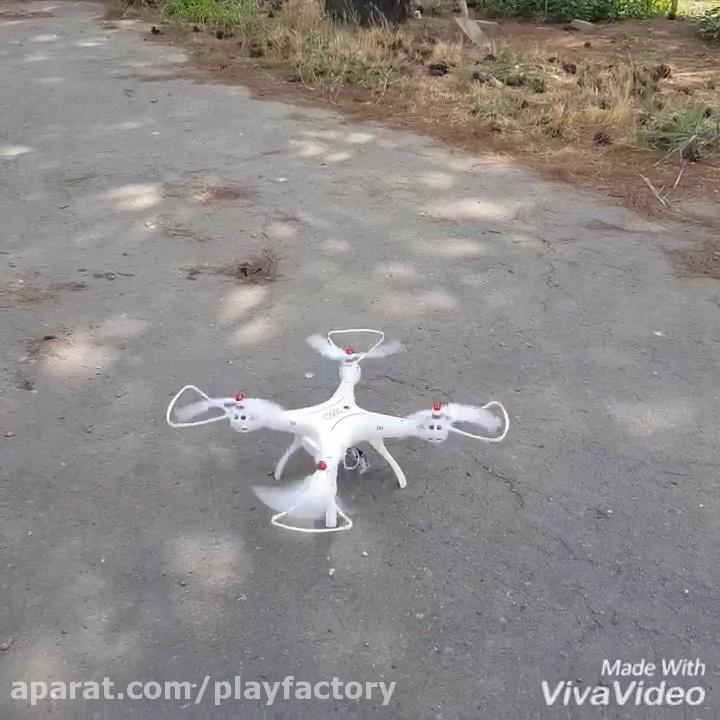drone: (161, 325, 514, 536)
